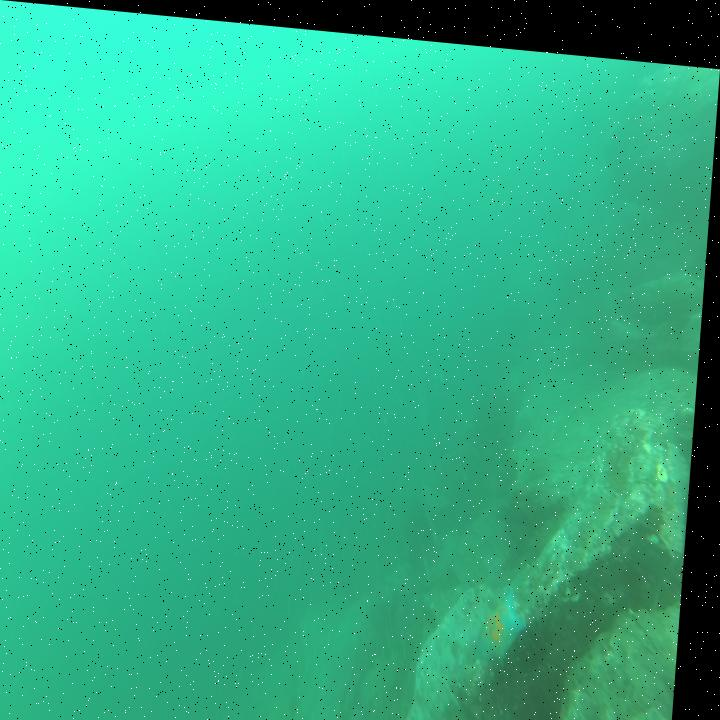starfish: (489, 572, 537, 659)
